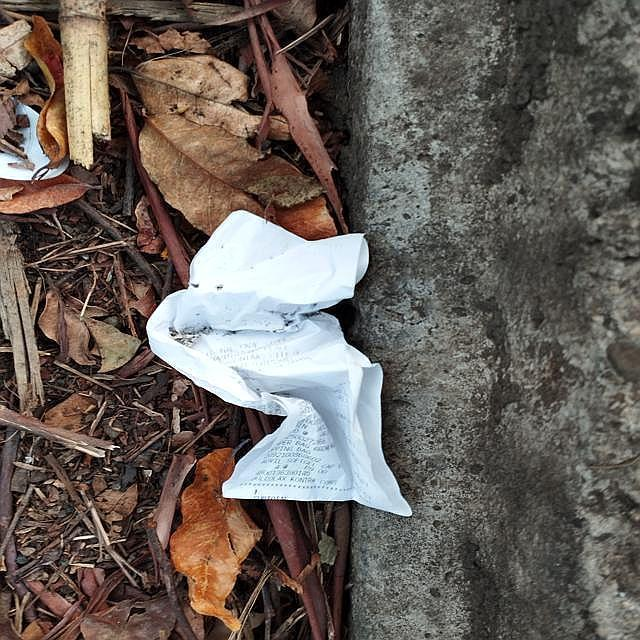Biodegradable: (155, 213, 411, 519)
